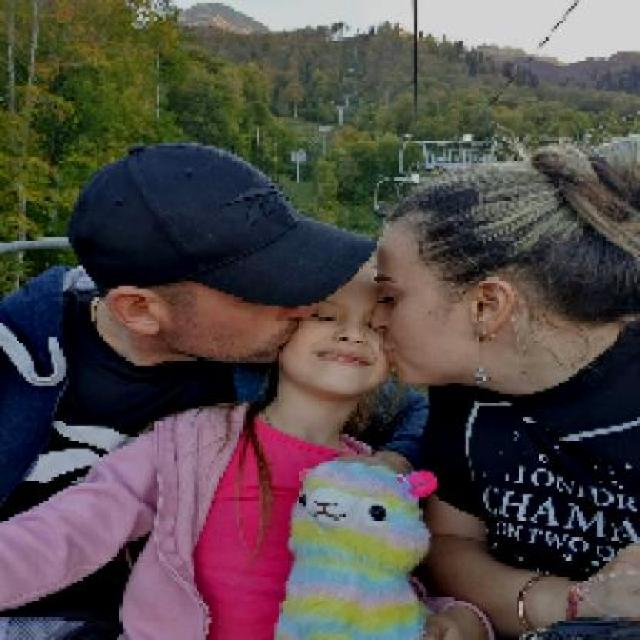child: (2, 254, 395, 637)
